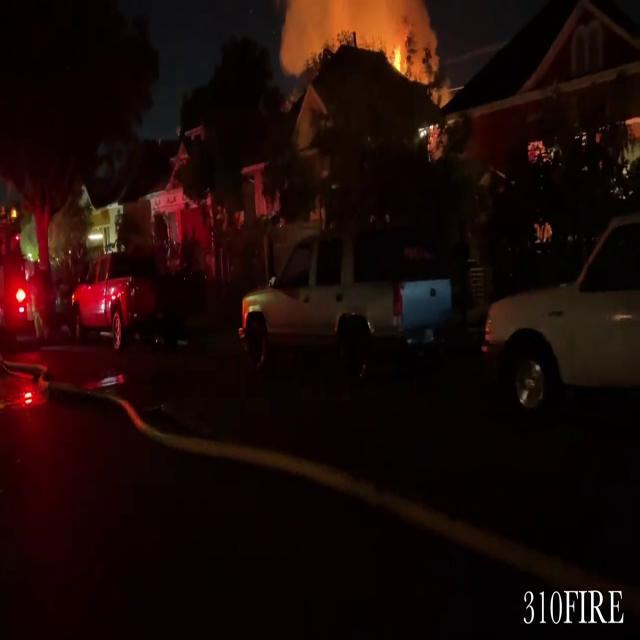Smoke: (273, 0, 438, 68)
